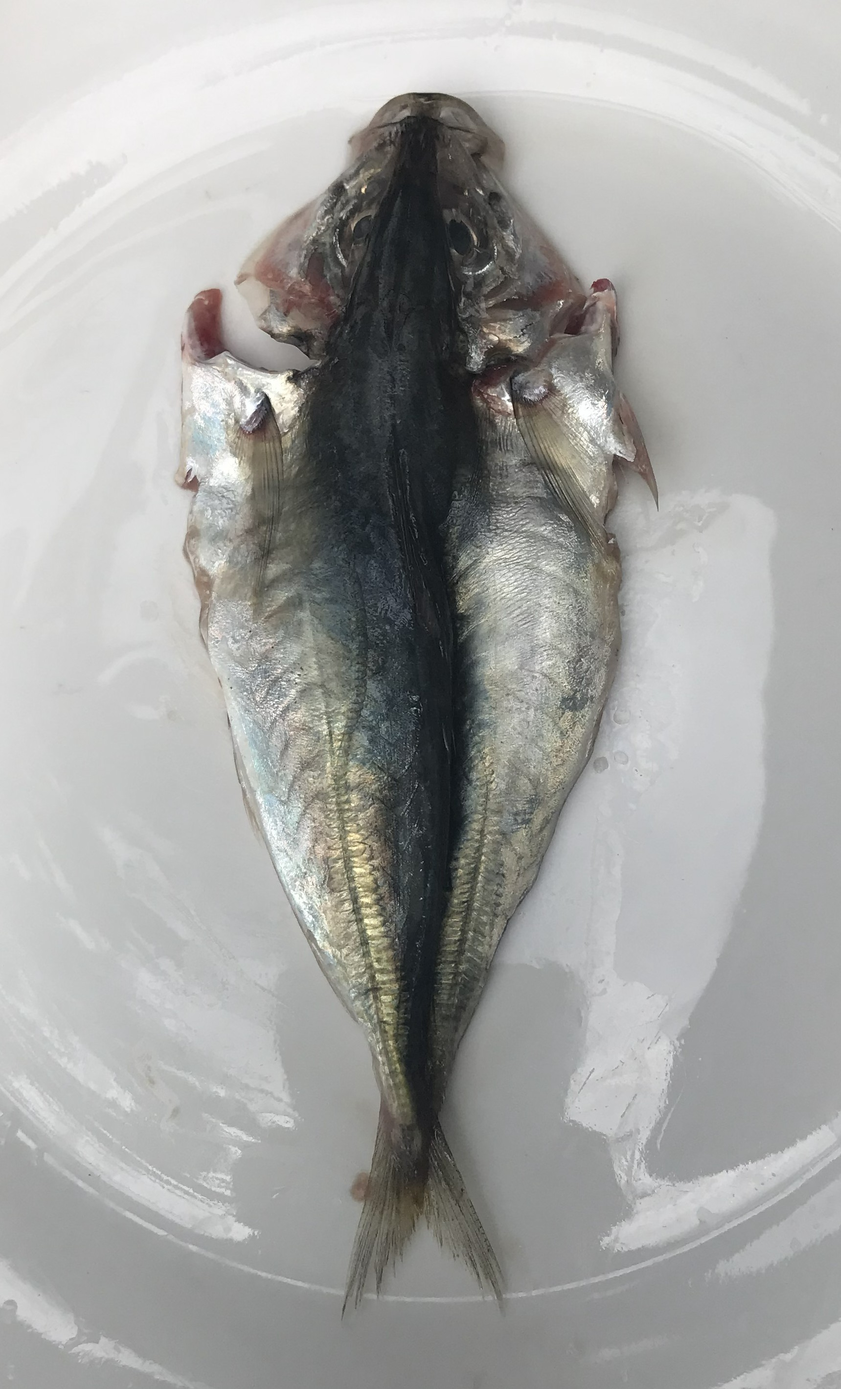barol_not_dried: (182, 93, 658, 1389)
